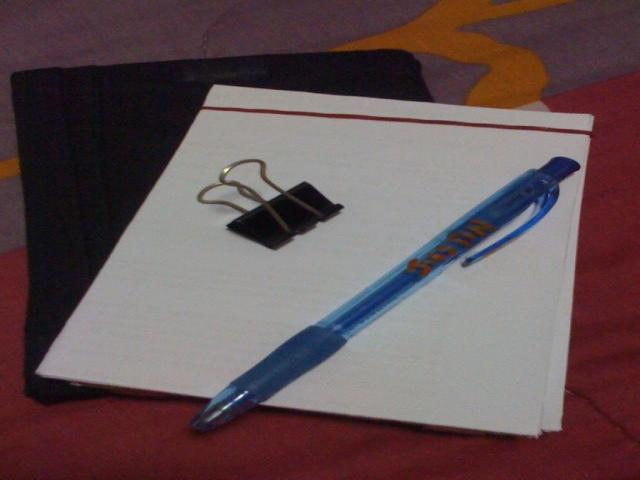PEN: (90, 94, 629, 448)
